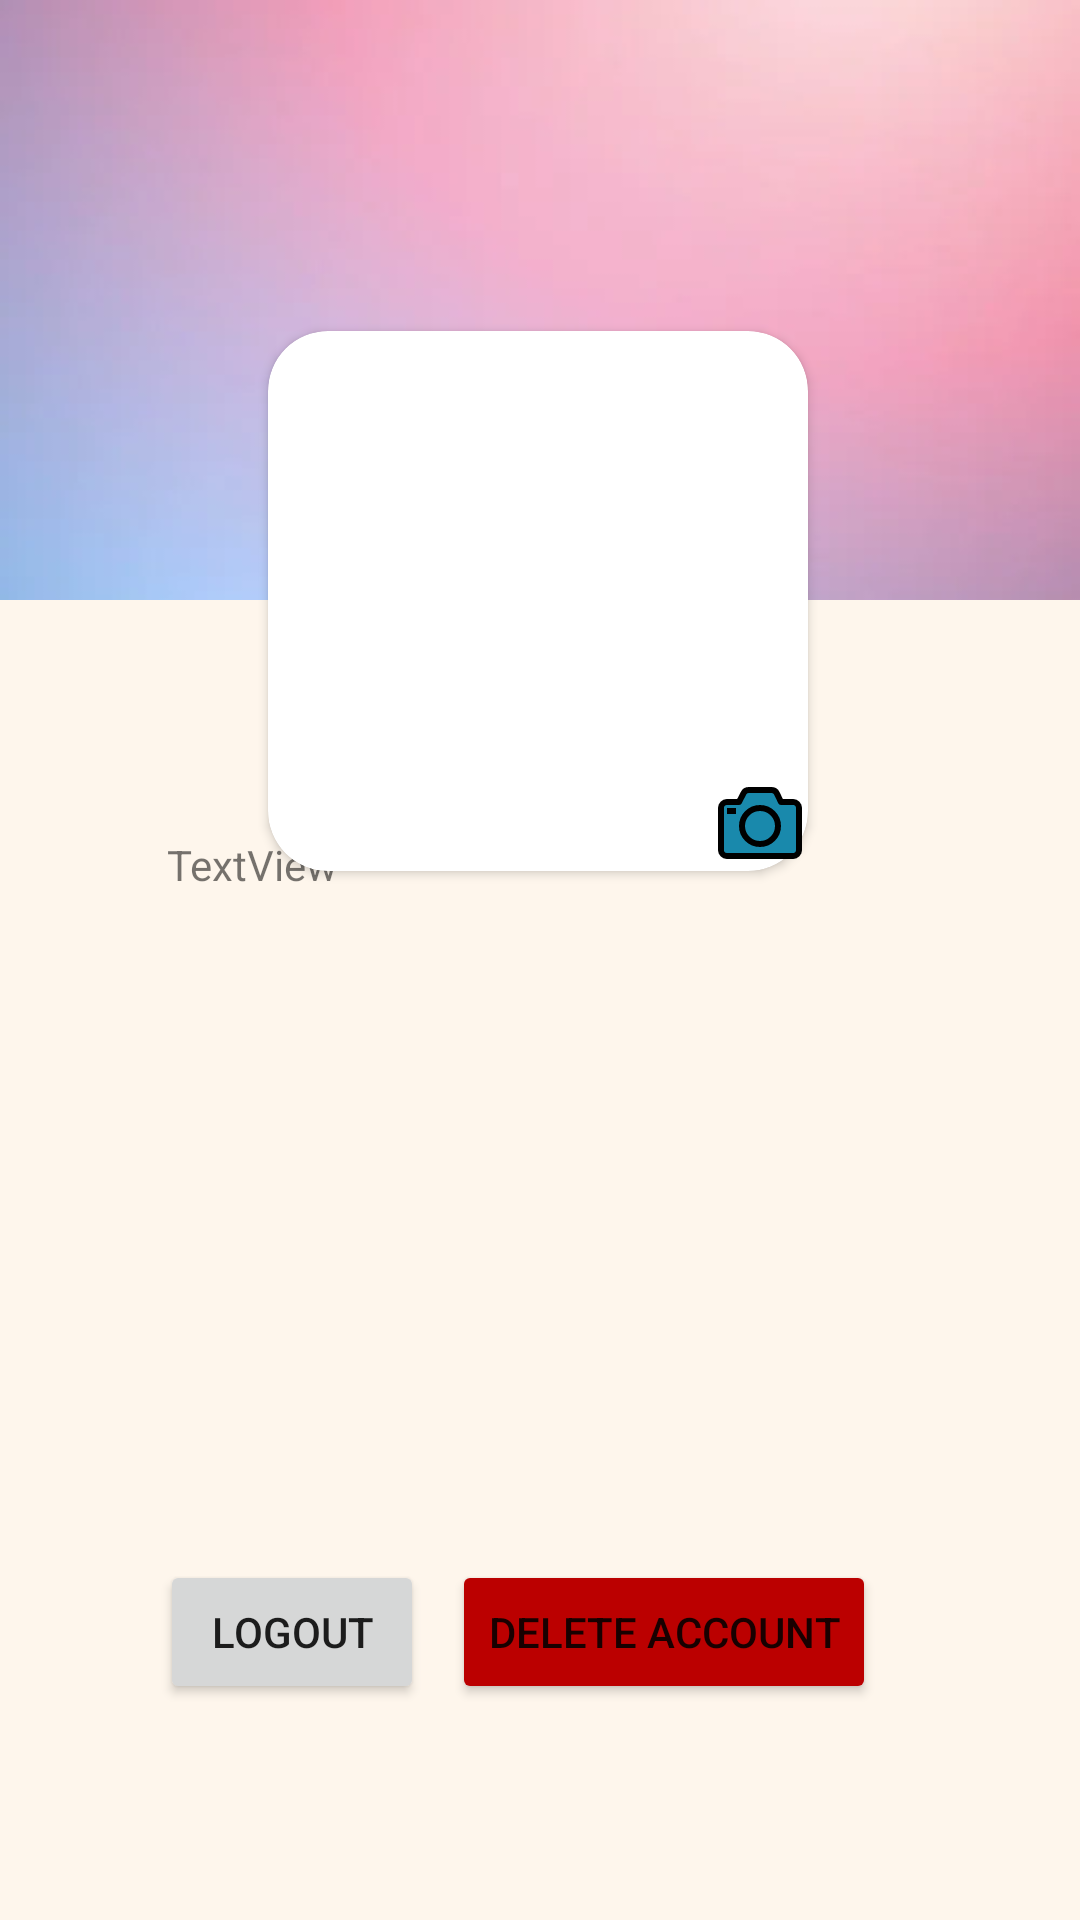

Icons on this 1080 × 1920 Android screen, each with its box as (x1, y1, x2, y2):
camera: (718, 787, 808, 871)
